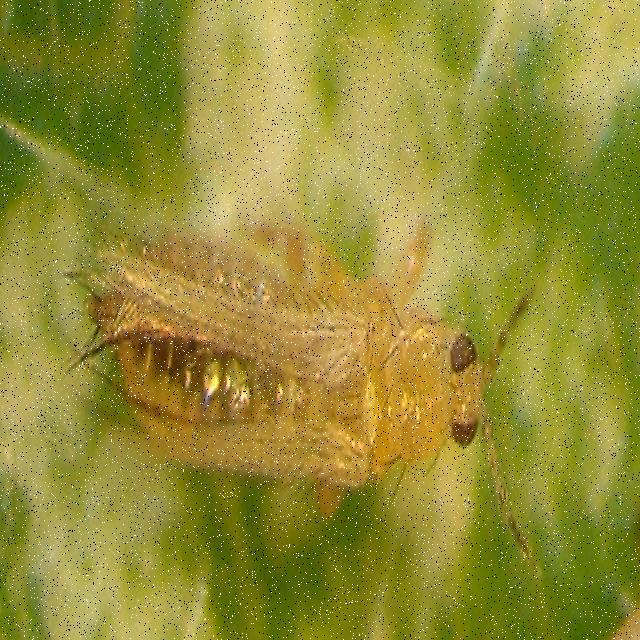Thrips: (49, 176, 591, 596)
